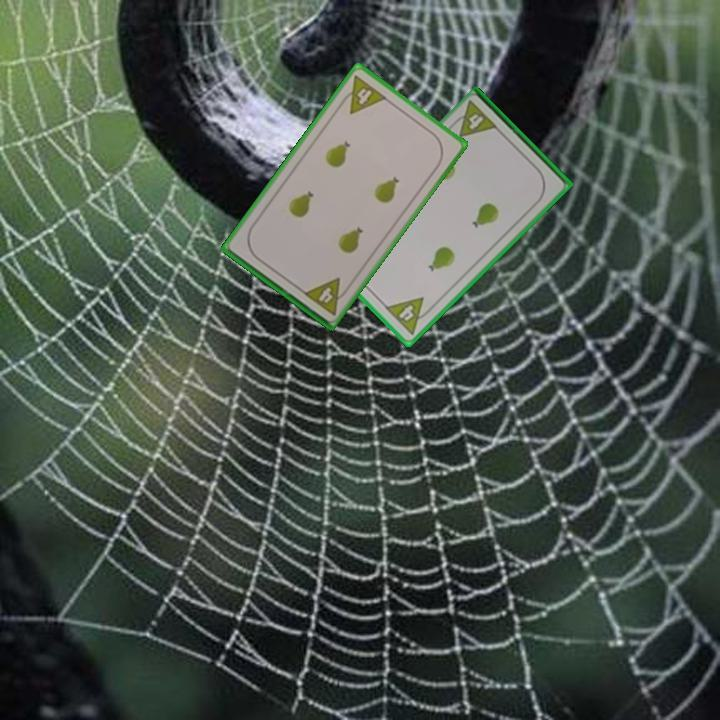4p: (335, 71, 390, 117), (381, 294, 436, 338), (300, 274, 353, 318), (447, 98, 501, 140)
